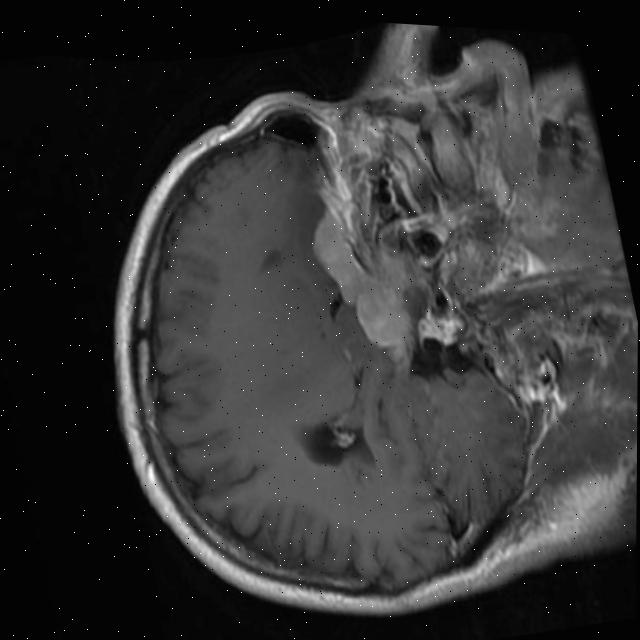Meningioma: (301, 197, 404, 357)
